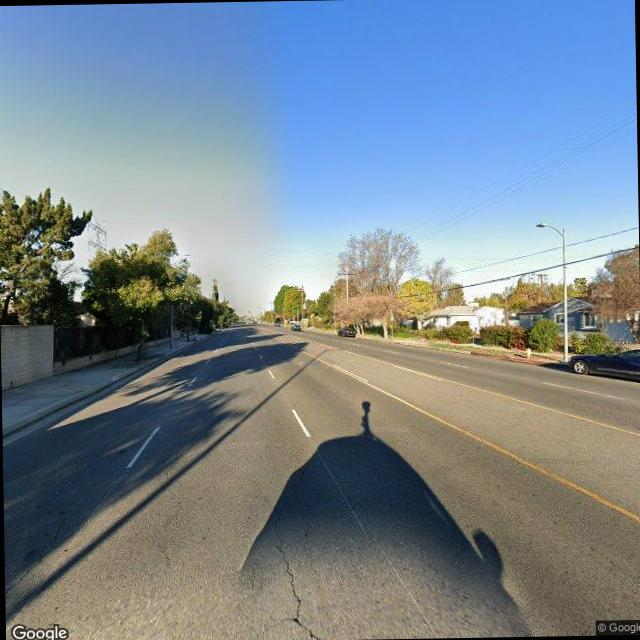pothole: (264, 507, 338, 640)
